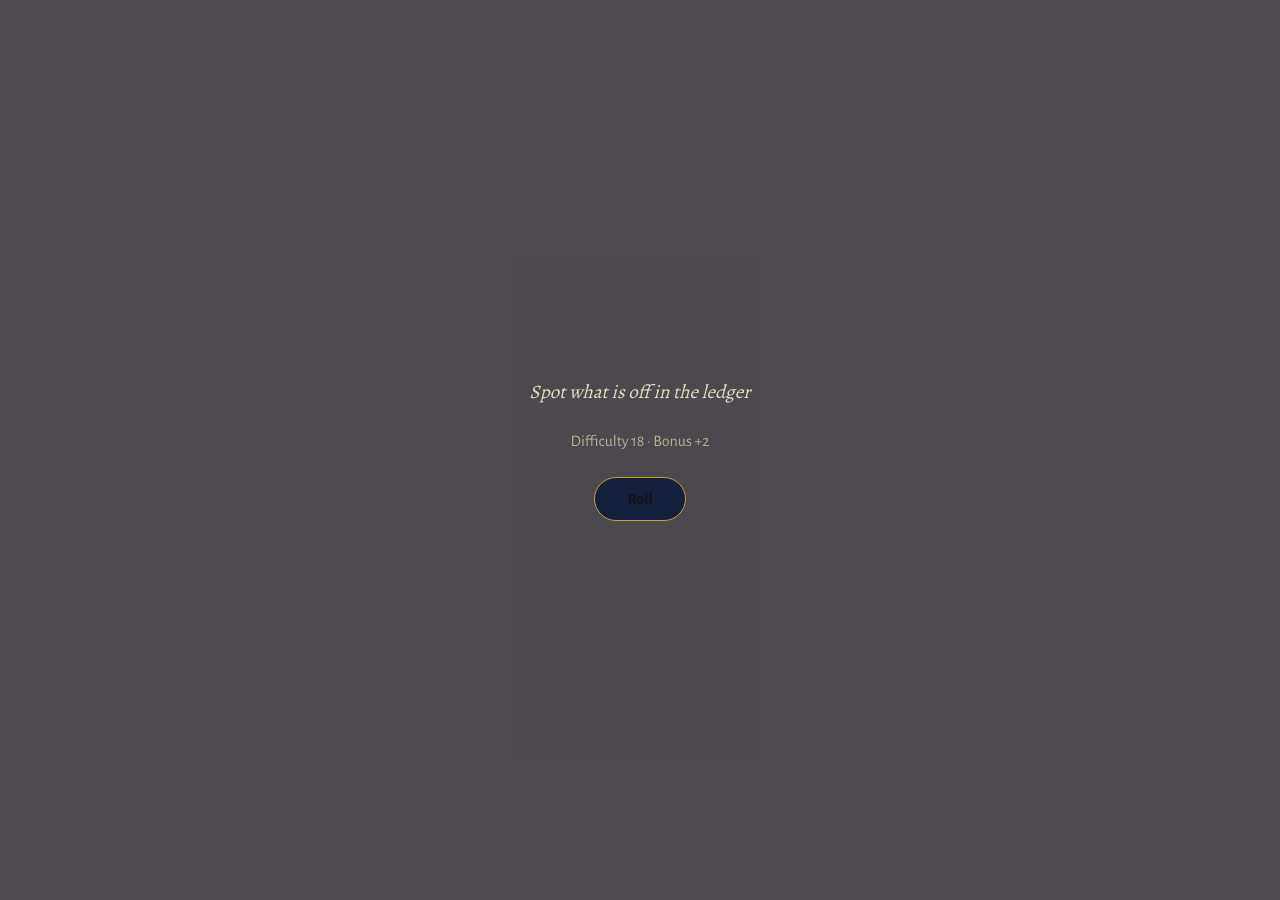
DiceMoment › a natural 20 is a Success whatever the difficulty and is labelled
Click the button "Roll" at (640, 499), box [594, 477, 686, 521]
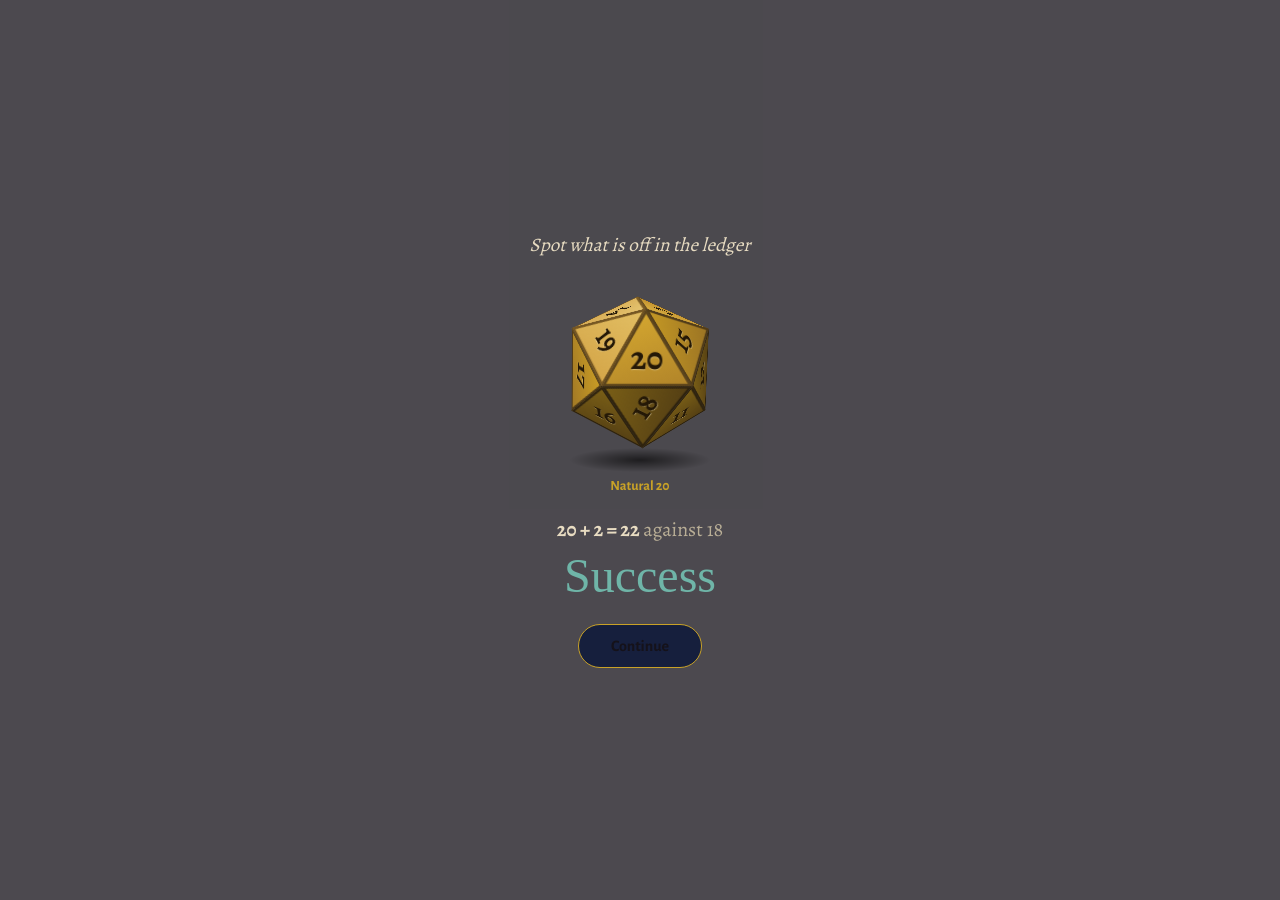
expect the text "Natural 20" is shown: met, box [610, 476, 670, 496]
expect the element with test id "dice-sum" reads "20 + 2 = 22 against 18": met, box [557, 516, 723, 544]
expect the text with test id "dice-verdict" reads "Success": met, box [564, 549, 716, 602]
